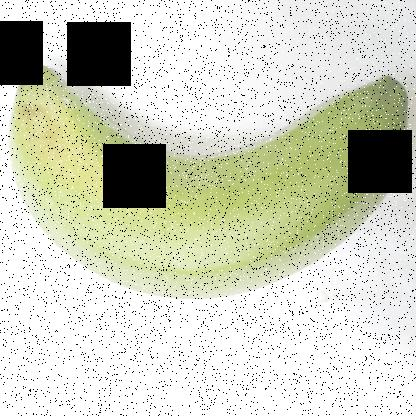freshunripe: (1, 29, 415, 314)
